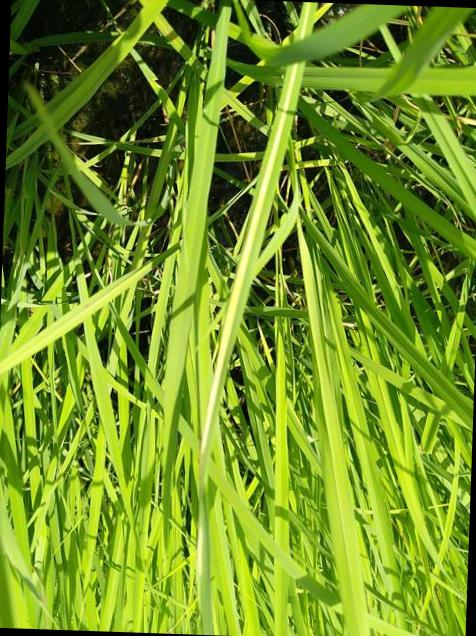Leaf Blight: (200, 63, 297, 456)
